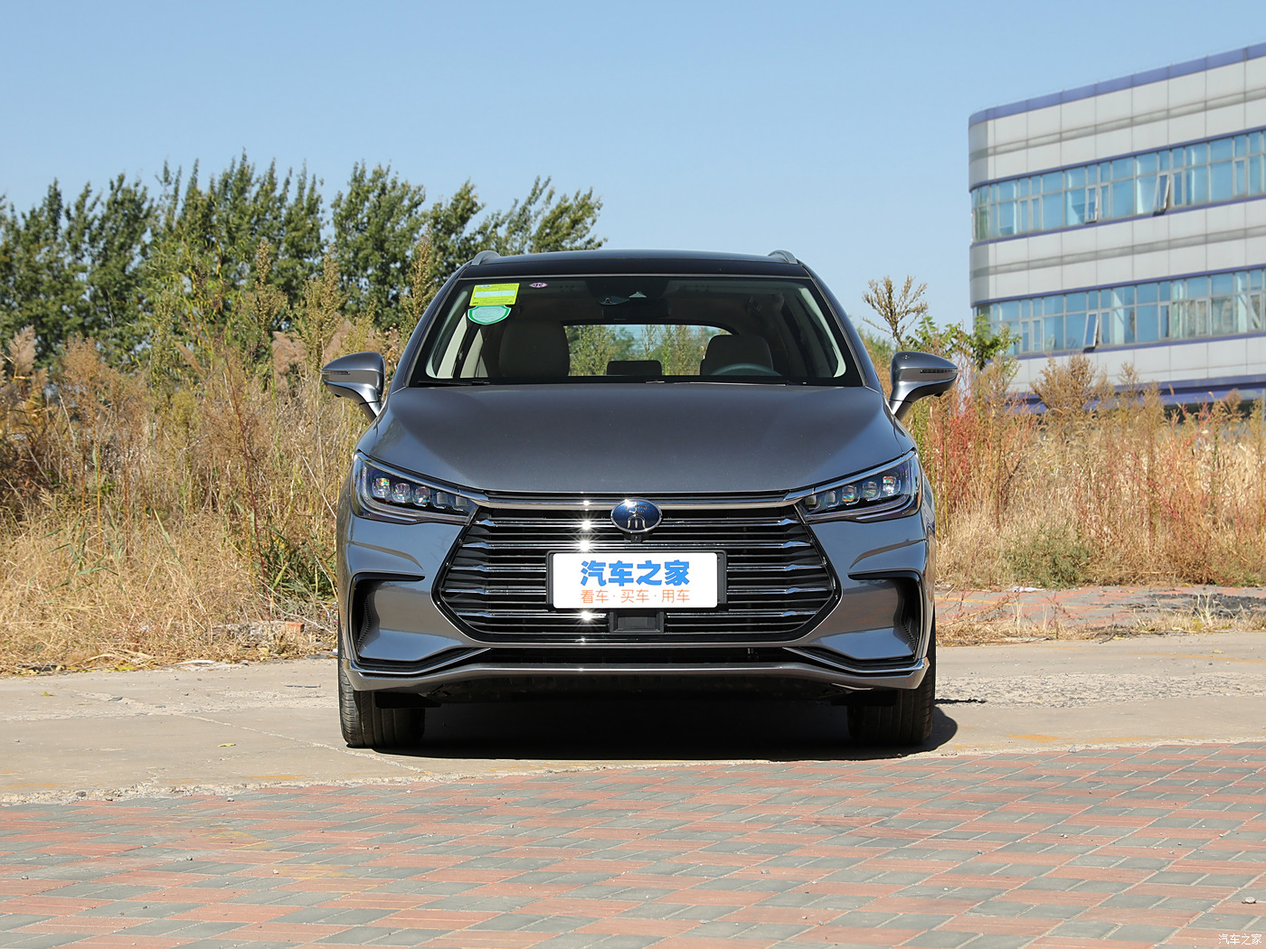BYD Song: (612, 500, 661, 532)
